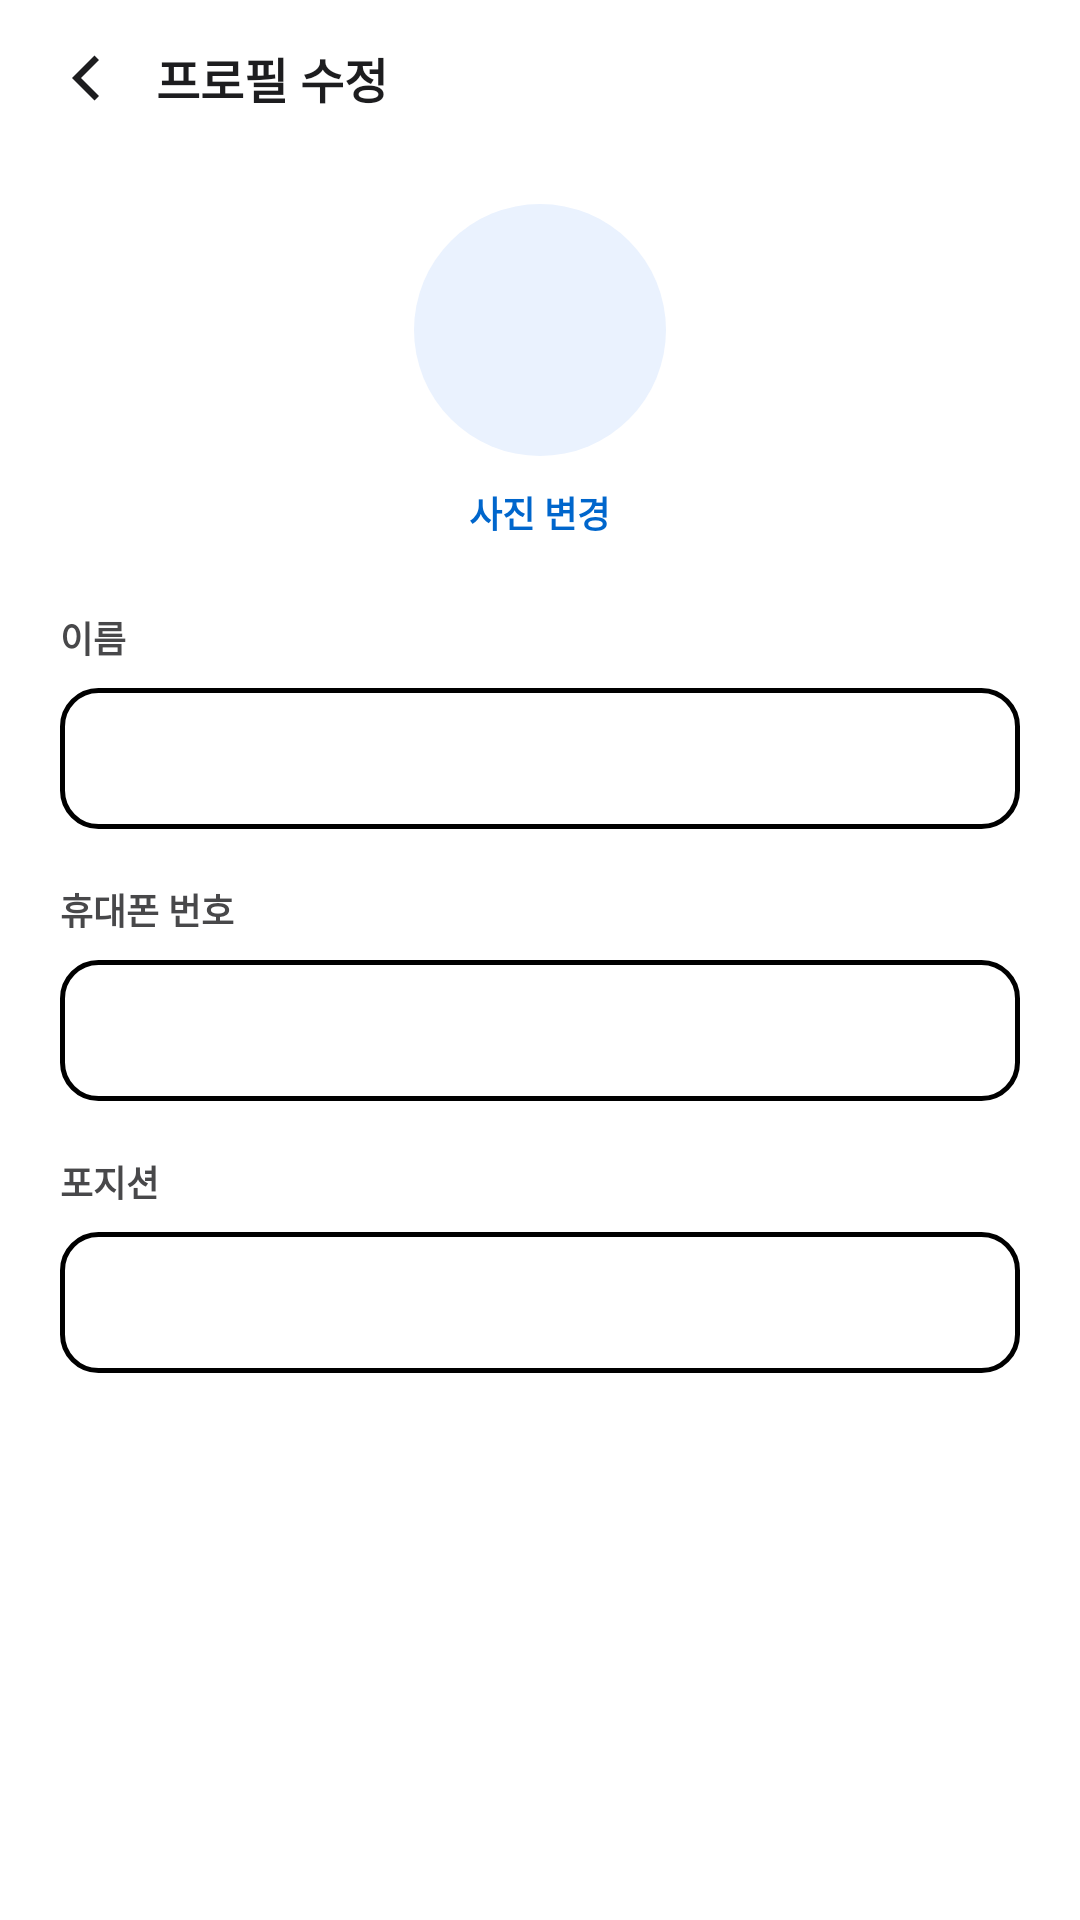

Point at icon controls on the screen. Image size 1080px x 1920px, points as (x=x, y=y).
뒤로: (x=85, y=78)
